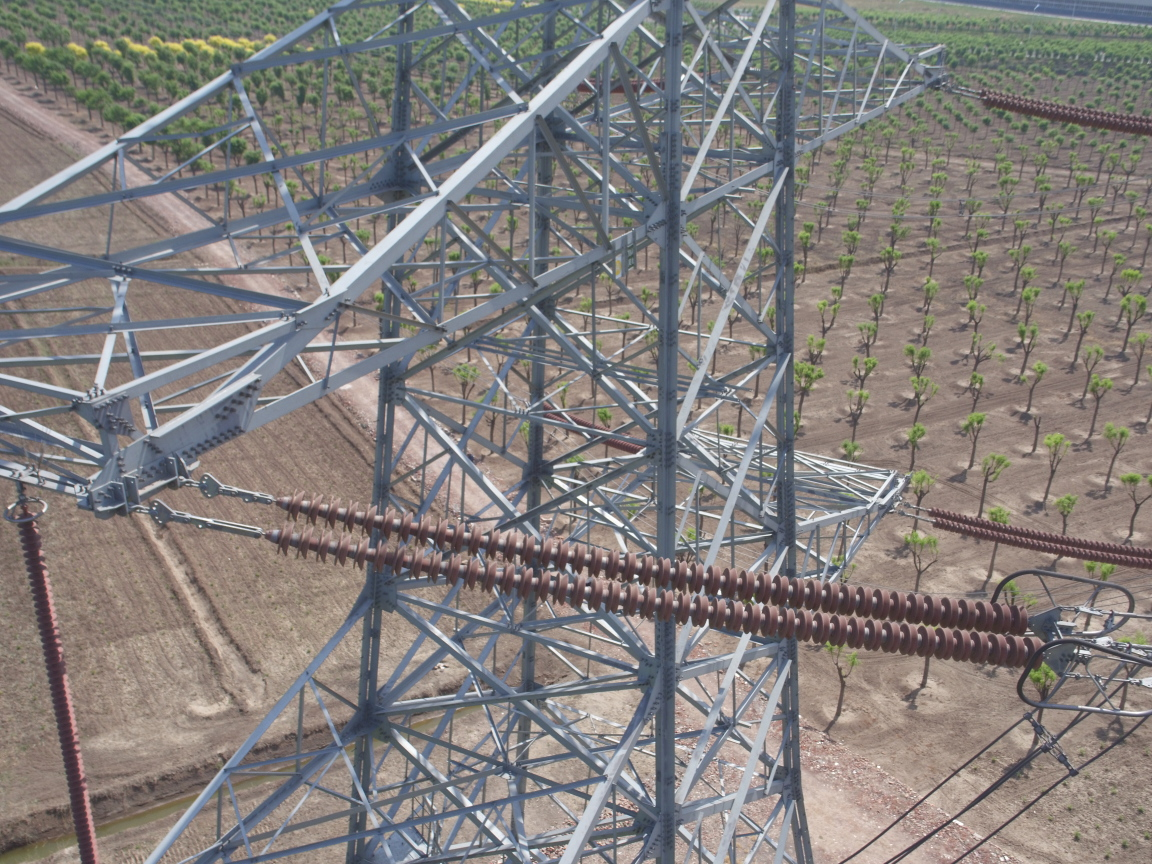insulator: (243, 486, 1061, 671), (912, 500, 1152, 569), (977, 84, 1152, 134)
